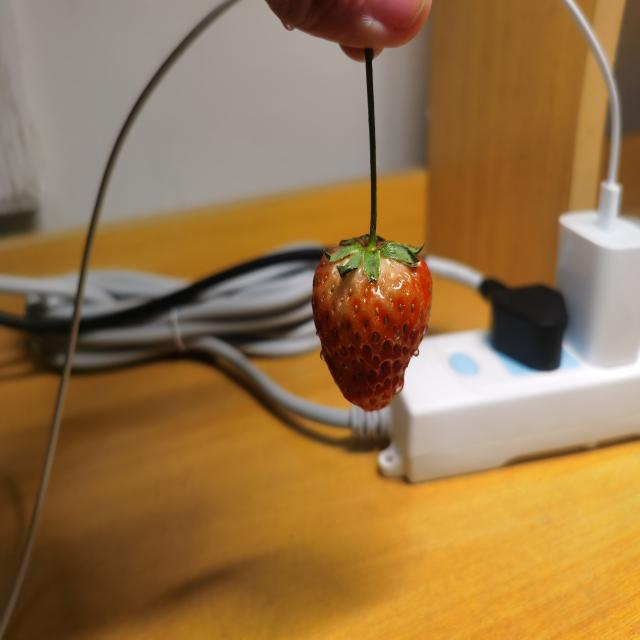stem: (367, 107, 377, 254)
strawberry: (312, 234, 432, 412)
